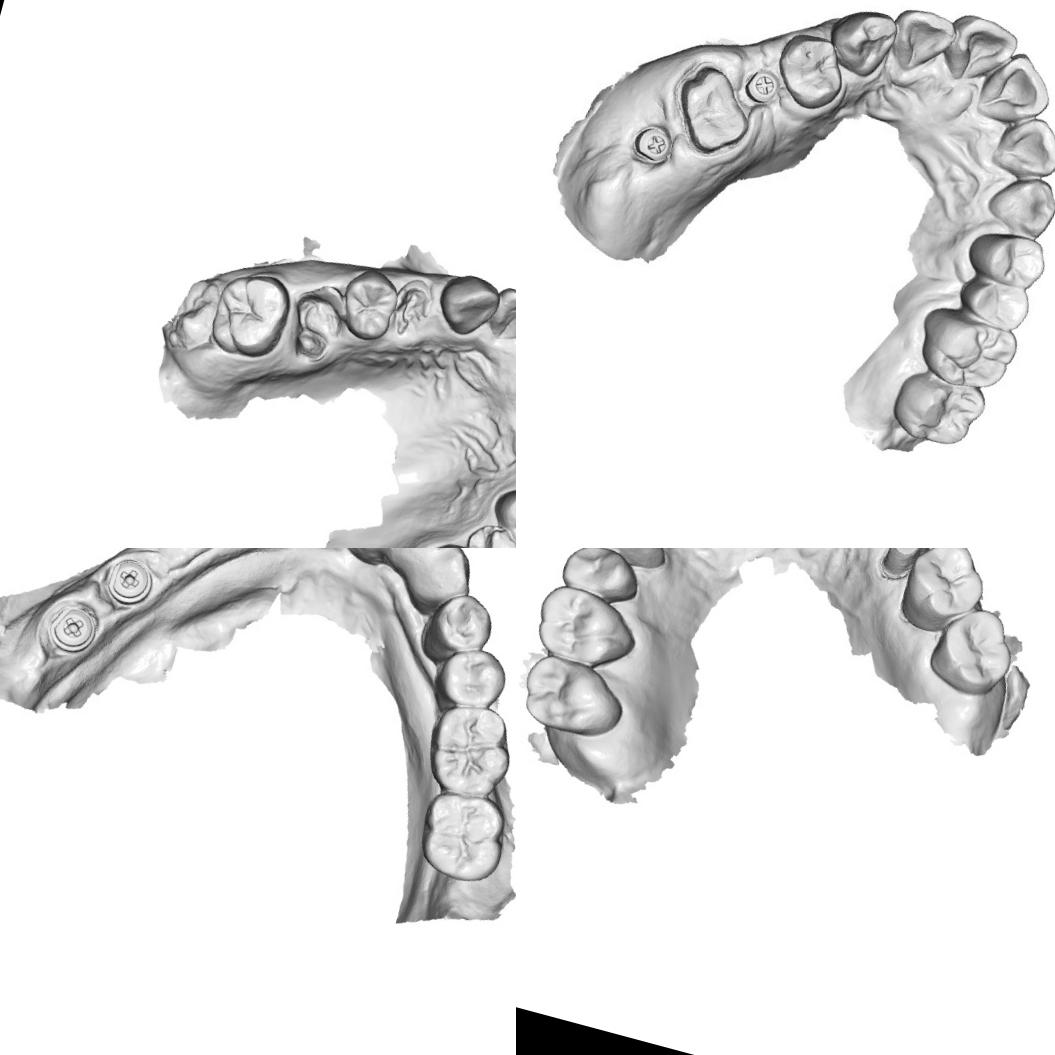canine: (820, 1, 901, 84), (429, 265, 505, 344), (982, 166, 1055, 242), (414, 548, 483, 608)
crown: (665, 58, 761, 164), (874, 548, 935, 588)
implant_plus: (38, 596, 102, 656), (100, 550, 160, 607), (622, 116, 676, 168), (742, 66, 782, 110)
incisor: (970, 42, 1055, 135), (938, 9, 1023, 95), (882, 0, 957, 78), (982, 106, 1055, 186), (486, 283, 516, 349), (396, 548, 460, 565)
molar: (908, 300, 1027, 400), (527, 578, 646, 678), (516, 647, 633, 745), (414, 695, 516, 806), (410, 784, 514, 890), (921, 597, 1023, 704), (883, 364, 992, 456), (202, 263, 298, 367), (893, 548, 995, 642)
premolar: (766, 24, 853, 115), (958, 218, 1055, 295), (428, 638, 512, 716), (423, 582, 502, 662), (333, 264, 406, 348), (555, 548, 647, 611), (951, 270, 1036, 334), (581, 548, 676, 573), (484, 481, 516, 548)
